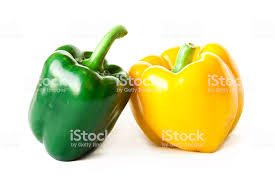bell pepper: (121, 37, 251, 158), (19, 36, 129, 177)
